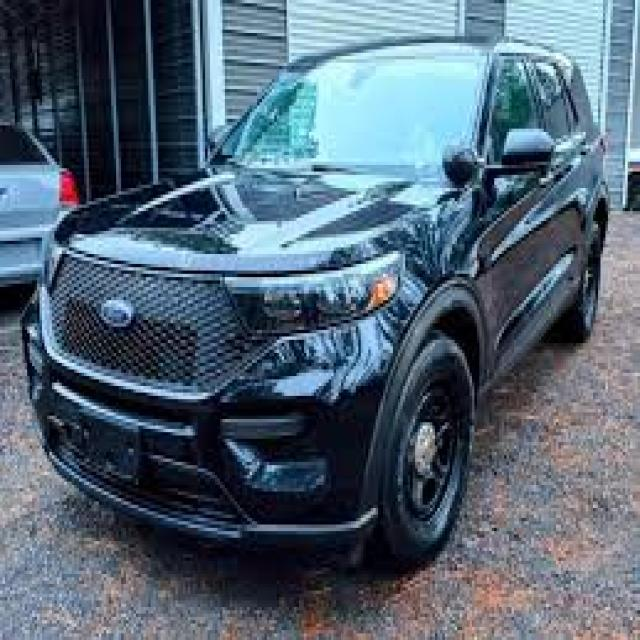cop: (20, 43, 608, 574)
